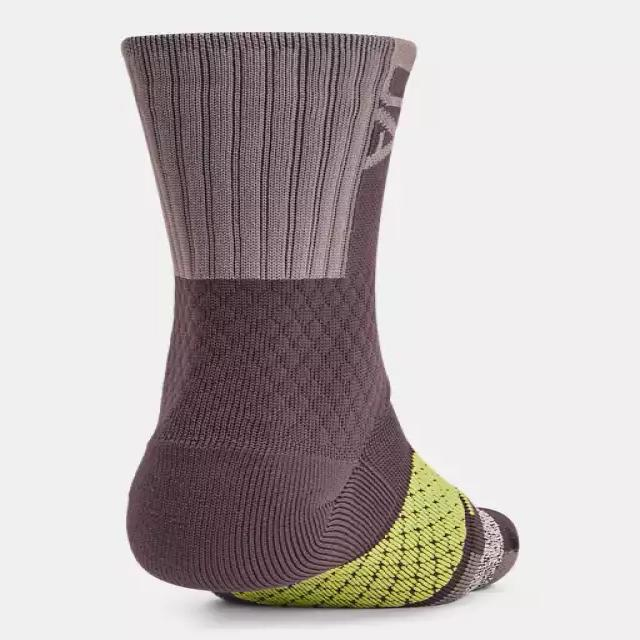sock: (119, 31, 519, 608)
